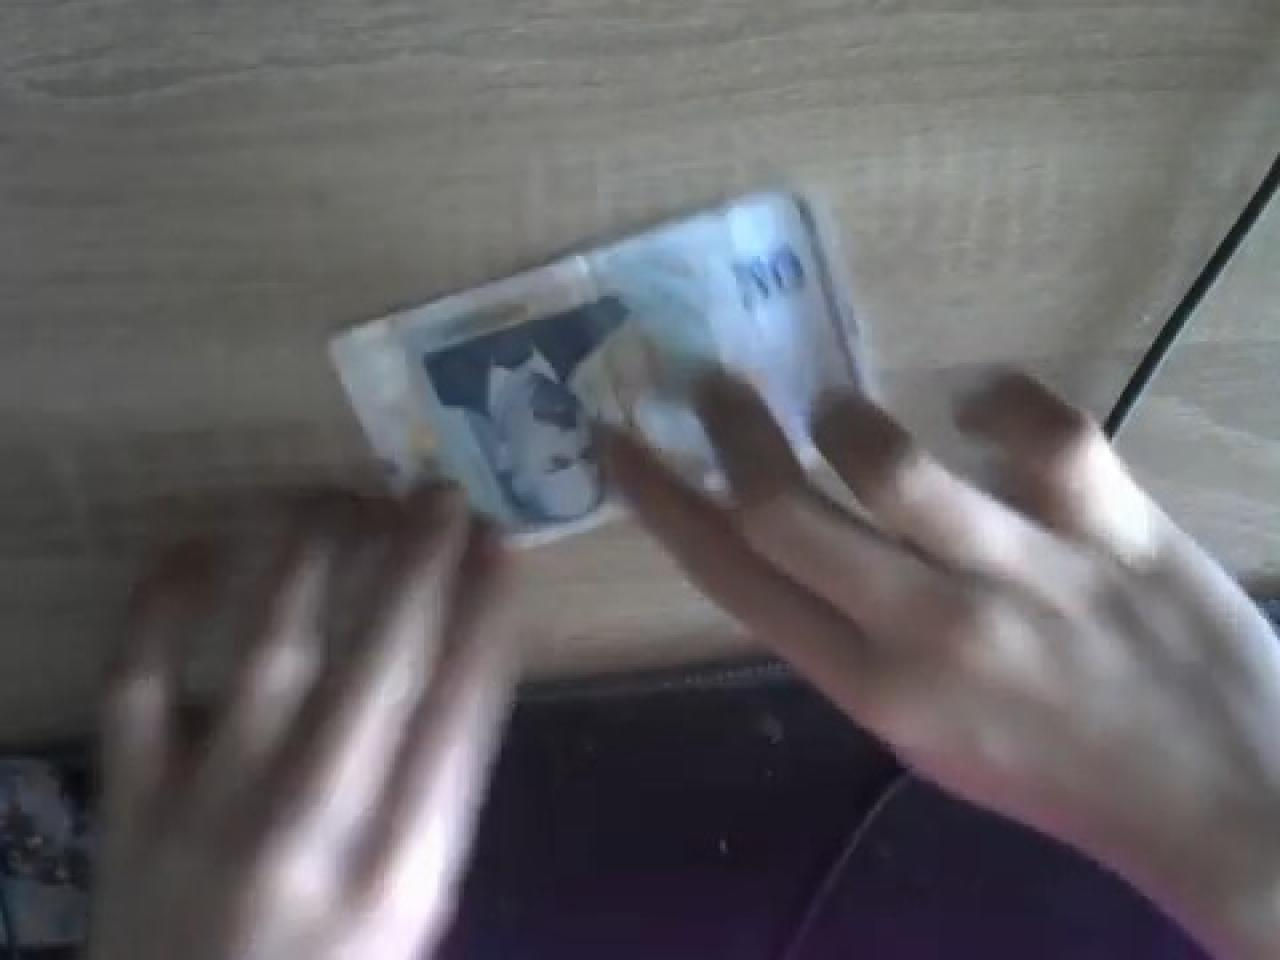20leva: (403, 293, 635, 544)
